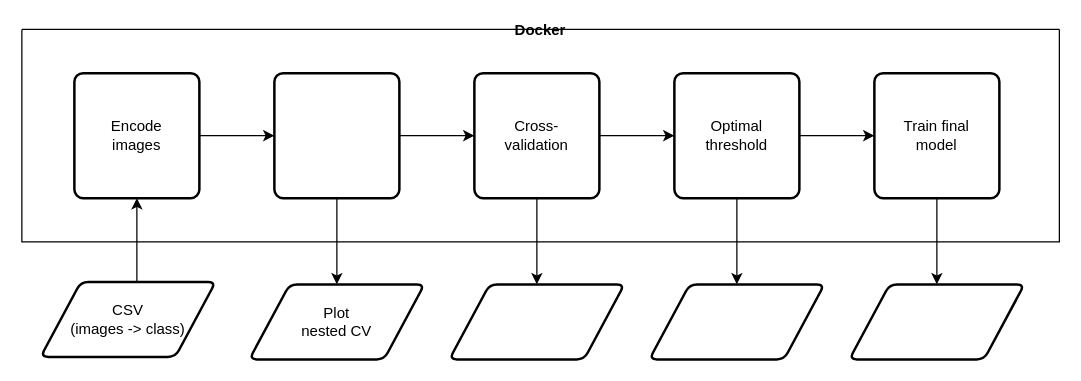
Image size: 1081x381. Some labels were removed from this diagram. Here are the shapes that lost their labels. From the top down, the box of each, then its label:
(272, 71, 400, 199): Hyper-parameter optimization
(448, 282, 625, 360): Plot CV data
(648, 282, 825, 360): Probability thresholds per class
(848, 282, 1025, 360): Final model data
